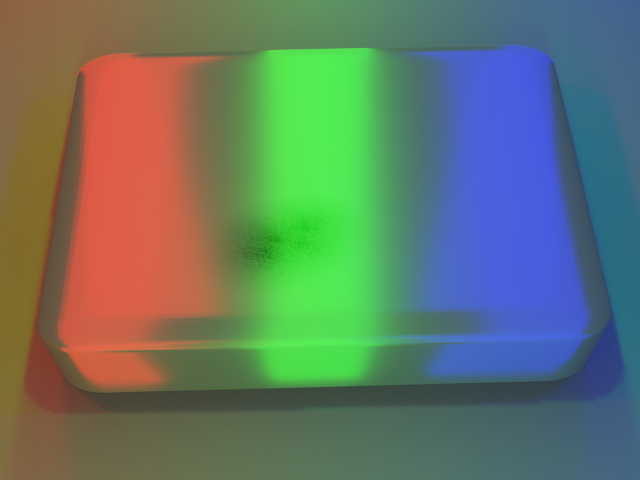stain: (145, 169, 400, 320)
